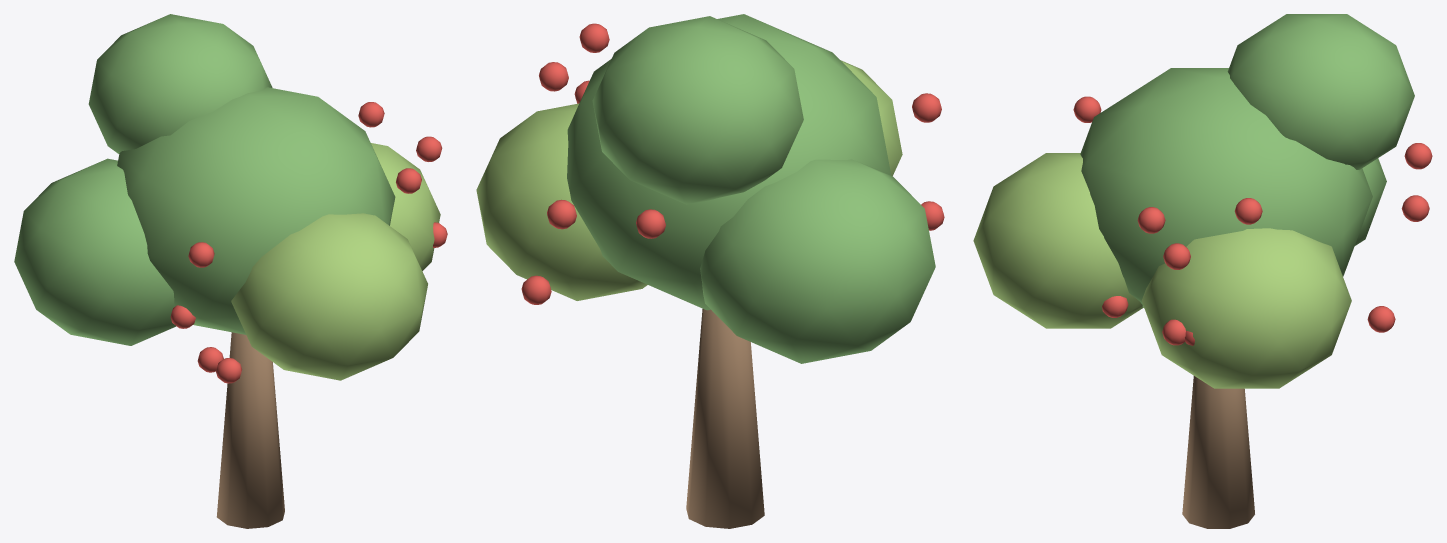
Rendered from world_tree_apple.glb.
3 renders of one model, left to right at view 1: azimuth 30°, elevation 25°; view 2: azimuth 150°, elevation 25°; view 3: azimuth 270°, elevation 25°, orthographic. The views are drawn at different scales.
Parts seen in each view (by area): view 1: world_tree_apple; view 2: world_tree_apple; view 3: world_tree_apple.
Boxes of the visible parts, bbox=[...] form: world_tree_apple: bbox=[14, 14, 447, 528]; world_tree_apple: bbox=[476, 14, 944, 528]; world_tree_apple: bbox=[973, 14, 1432, 528].
Bounding box in the file's own units: 3.27 × 3.8 × 3.28.
